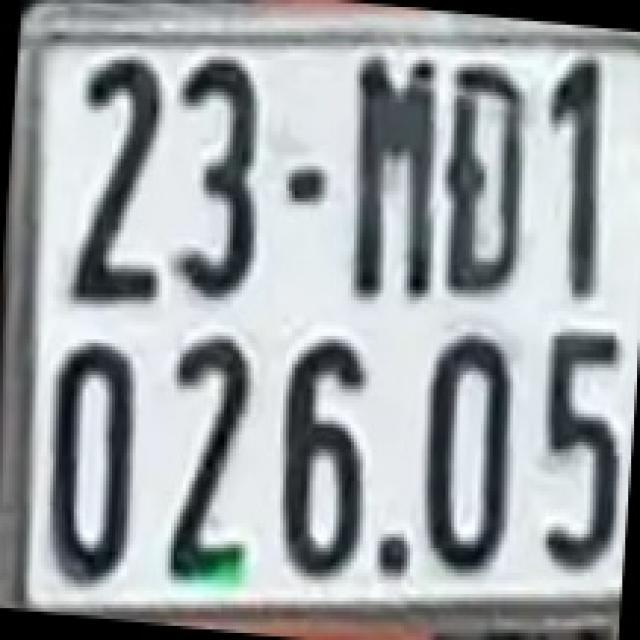0: (50, 340, 136, 584), (424, 332, 510, 573)
1: (548, 56, 608, 298)
2: (76, 56, 162, 304), (168, 336, 251, 580)
3: (180, 60, 260, 297)
5: (542, 328, 620, 570)
6: (280, 336, 366, 576)
B: (445, 64, 525, 298)
M: (348, 42, 434, 294)
